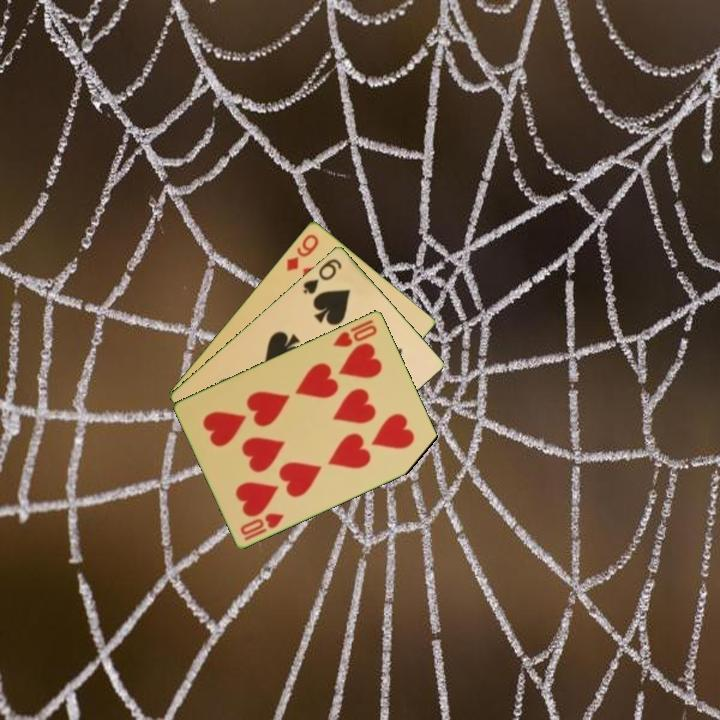10h: (330, 316, 380, 350), (237, 509, 287, 543)
6s: (299, 255, 345, 297)
9d: (283, 230, 322, 274)
